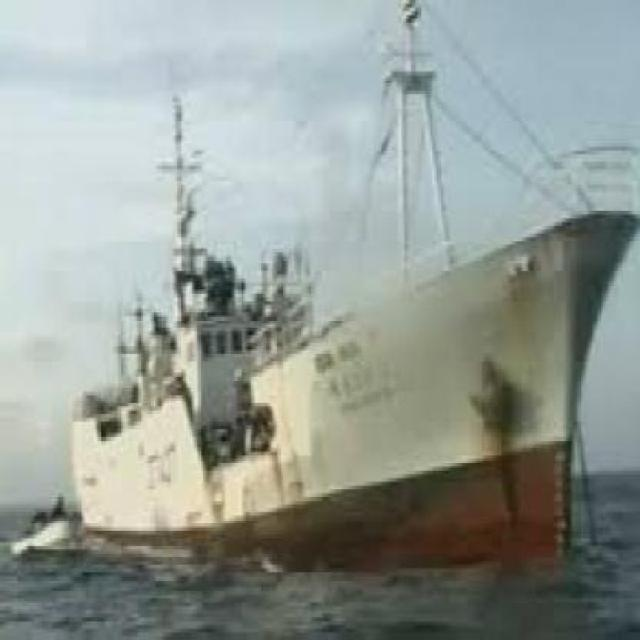fish-b: (55, 1, 639, 589)
